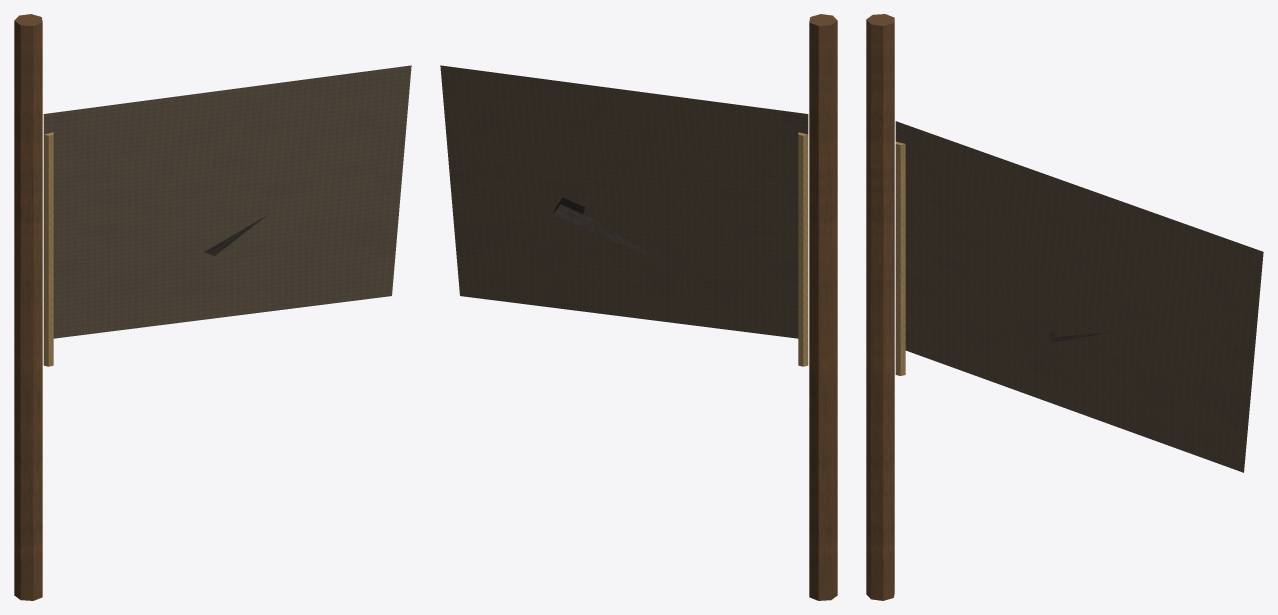
The model's file is pr-014_signal_flag_cloth_strip__worn.obj.
The picture shows the model from 3 angles, left to right: view 1: azimuth 30°, elevation 25°; view 2: azimuth 150°, elevation 25°; view 3: azimuth 330°, elevation 25°; orthographic projection.
Visible parts, largest first — view 1: pr-014_signal_flag_cloth_strip__worn; view 2: pr-014_signal_flag_cloth_strip__worn; view 3: pr-014_signal_flag_cloth_strip__worn.
Part boxes in pixels (x1,y1,x2,y2): pr-014_signal_flag_cloth_strip__worn: (14, 14, 411, 600); pr-014_signal_flag_cloth_strip__worn: (440, 14, 837, 600); pr-014_signal_flag_cloth_strip__worn: (866, 14, 1263, 600).
Bounding box in the file's own units: 0.8034 × 1.12 × 0.0766.
Materials: 4 (4 with a texture image).
